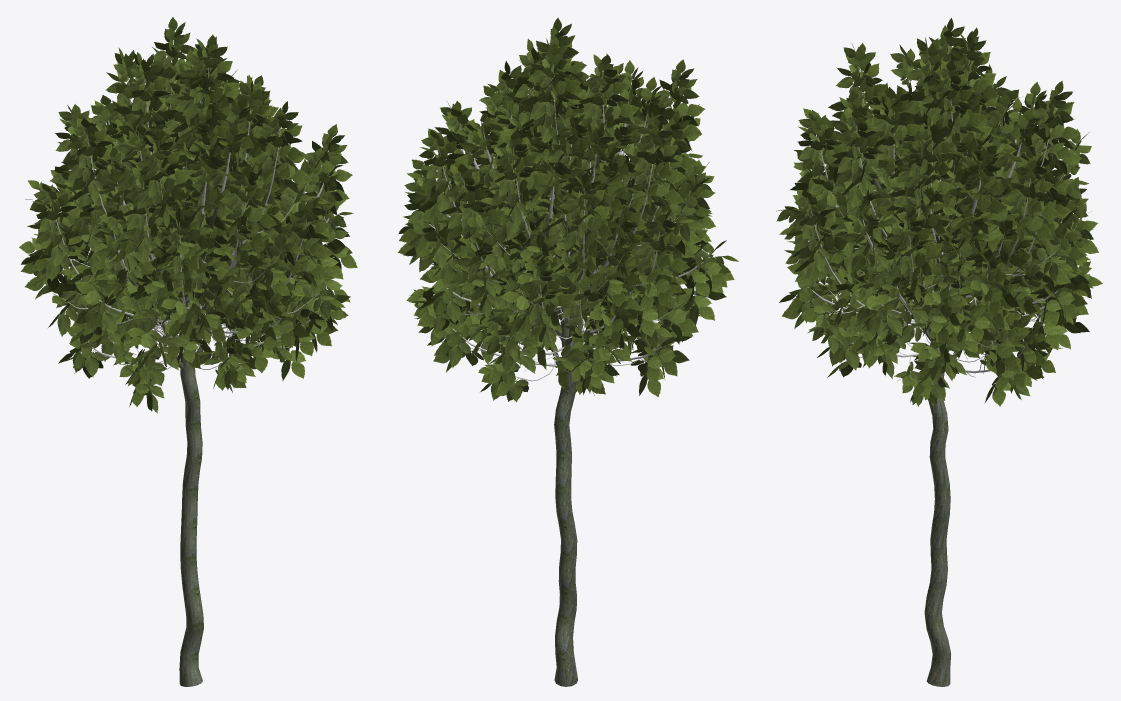
3 renders of one model, left to right at view 1: azimuth 30°, elevation 25°; view 2: azimuth 150°, elevation 25°; view 3: azimuth 270°, elevation 25°, orthographic.
Parts seen in each view (by area): view 1: LS06_01; view 2: LS06_01; view 3: LS06_01.
Boxes of the visible parts, x1,y1,x2,y2 form: LS06_01: (19, 17, 357, 686); LS06_01: (398, 17, 738, 686); LS06_01: (776, 18, 1102, 686).
Size of the model in its own units: 1.19 by 2.51 by 1.15.
